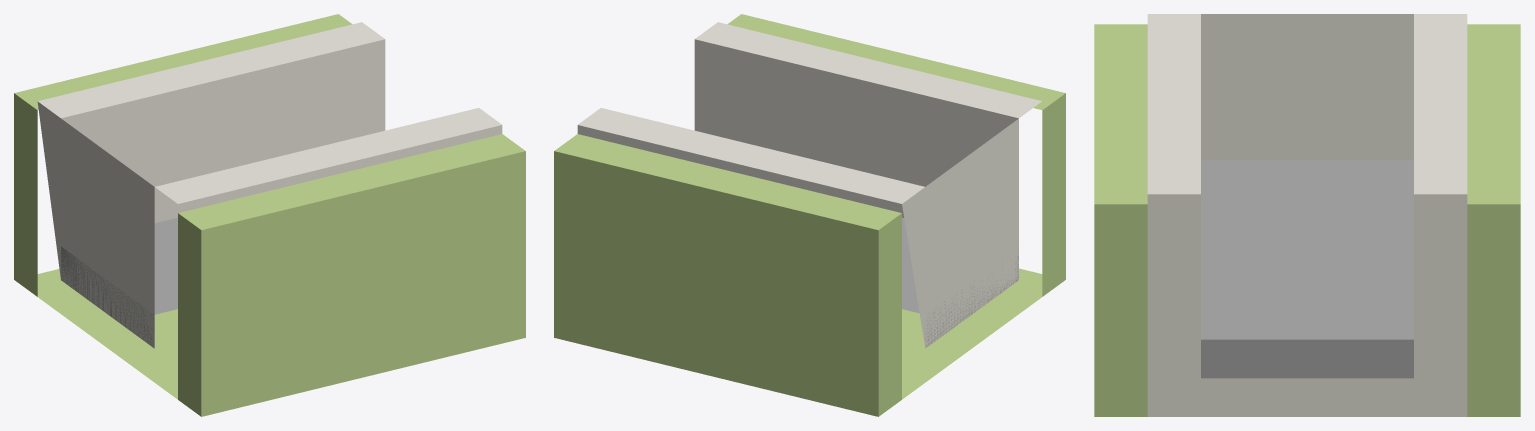
File: roadTile_184.glb
The picture shows the model from 3 angles, left to right: view 1: azimuth 30°, elevation 25°; view 2: azimuth 150°, elevation 25°; view 3: azimuth 270°, elevation 25°; orthographic projection. The views are drawn at different scales.
Parts seen in each view (by area): view 1: Mesh1 Group1 Model; view 2: Mesh1 Group1 Model; view 3: Mesh1 Group1 Model.
Boxes of the visible parts, left/top/right/bottom form: Mesh1 Group1 Model: left=14, top=14, right=525, bottom=416; Mesh1 Group1 Model: left=554, top=14, right=1065, bottom=416; Mesh1 Group1 Model: left=1094, top=14, right=1520, bottom=416.
Bounding box in the file's own units: 3 × 1.73 × 3.
